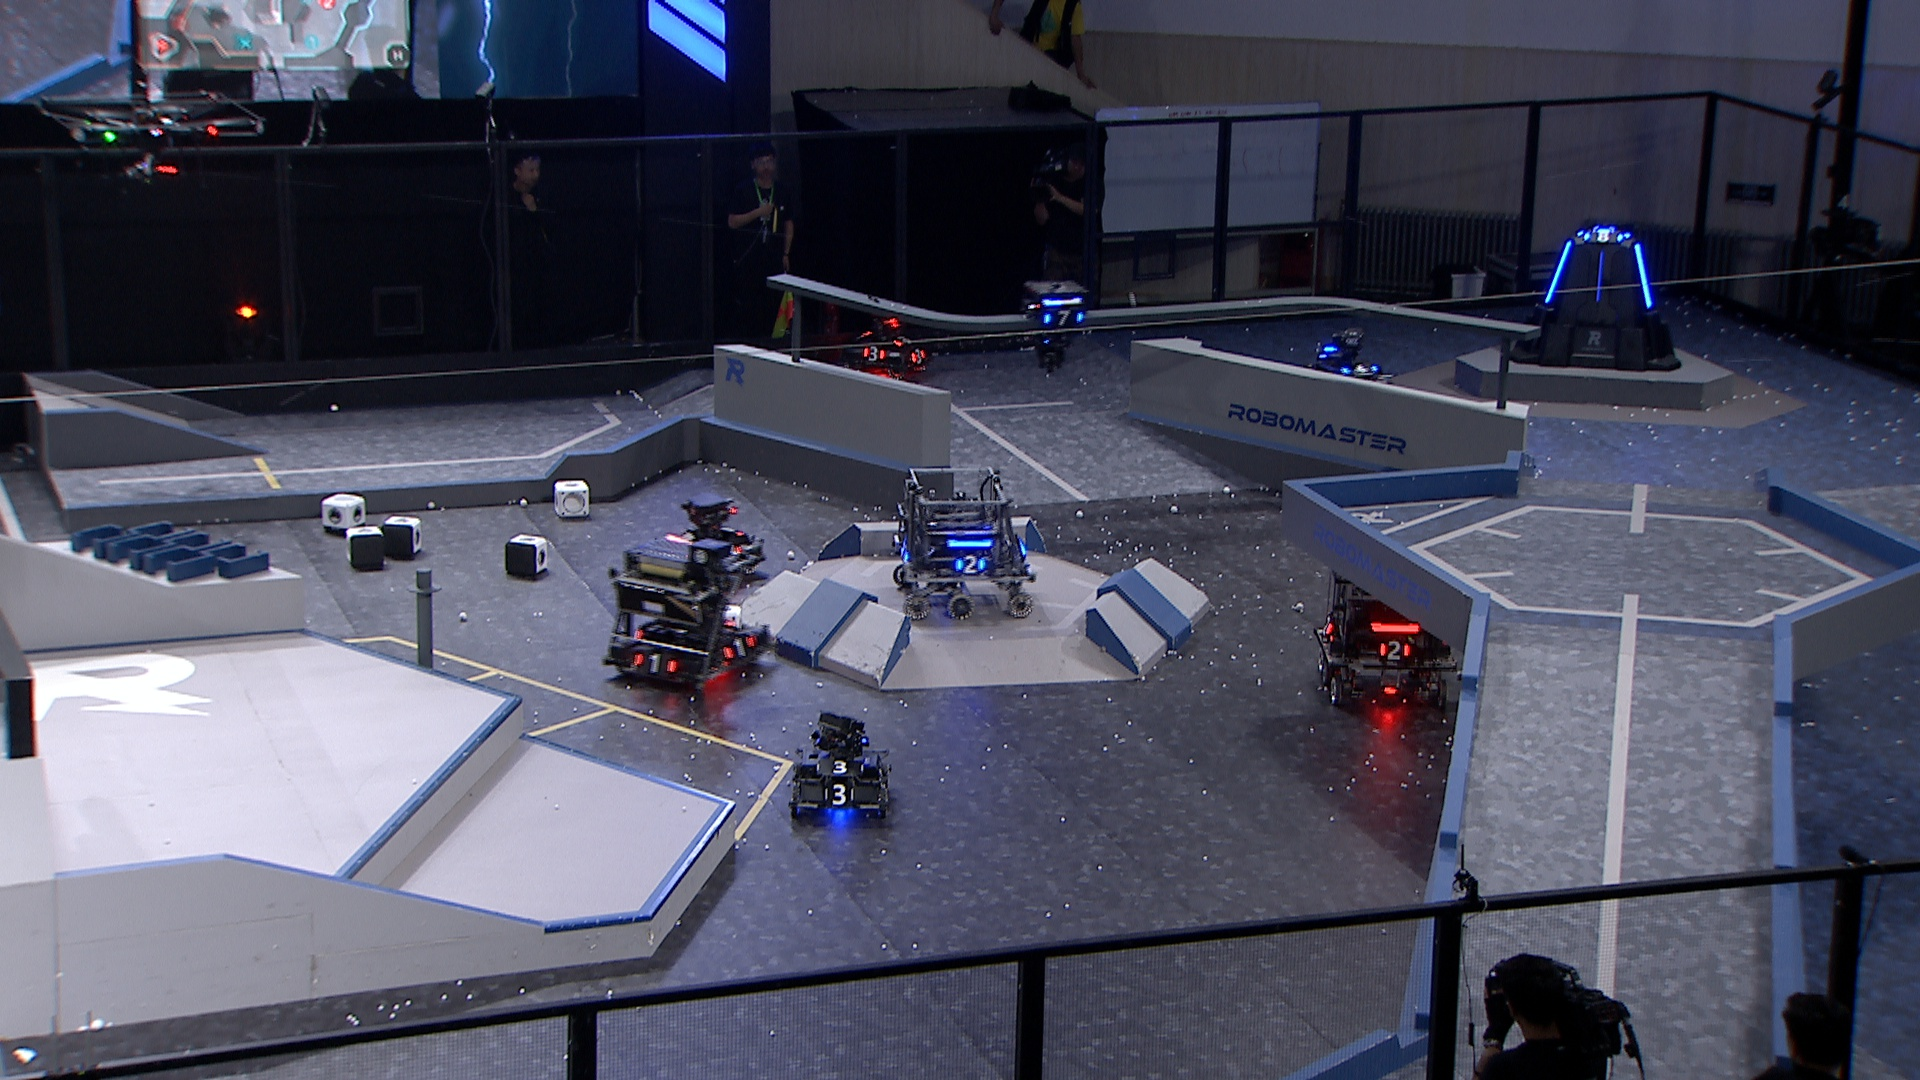armor: (1542, 239, 1577, 306), (1633, 239, 1654, 313), (629, 651, 680, 675), (719, 636, 756, 662), (1040, 309, 1088, 328), (1592, 247, 1607, 305), (811, 760, 866, 775), (823, 783, 856, 808), (953, 553, 988, 576), (1379, 637, 1411, 661), (1578, 228, 1625, 244), (1340, 360, 1377, 378), (858, 345, 887, 361), (889, 330, 913, 348), (1319, 612, 1335, 636), (897, 541, 913, 564), (910, 345, 926, 368)
base: (1509, 219, 1685, 375)
car: (1309, 534, 1462, 711), (609, 533, 769, 688), (889, 462, 1040, 618), (789, 707, 887, 822), (666, 495, 767, 578), (1305, 324, 1396, 400), (851, 310, 936, 386)
watcher: (1021, 280, 1092, 376)
